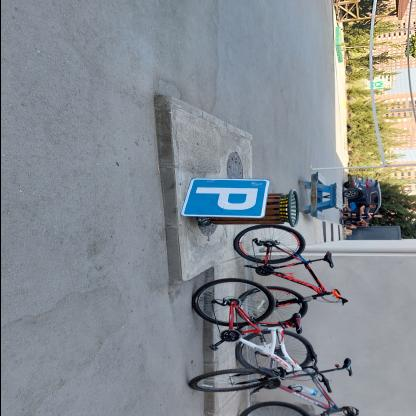Parking-Sign: (182, 180, 270, 220)
